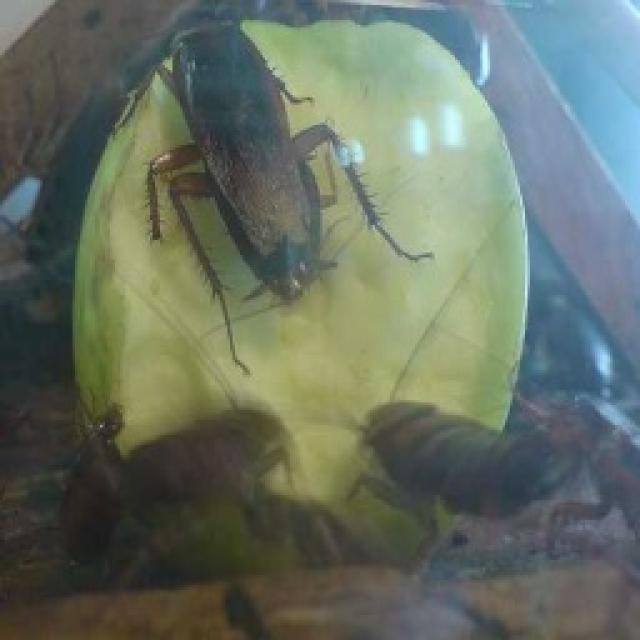cockroach: (128, 8, 439, 378)
